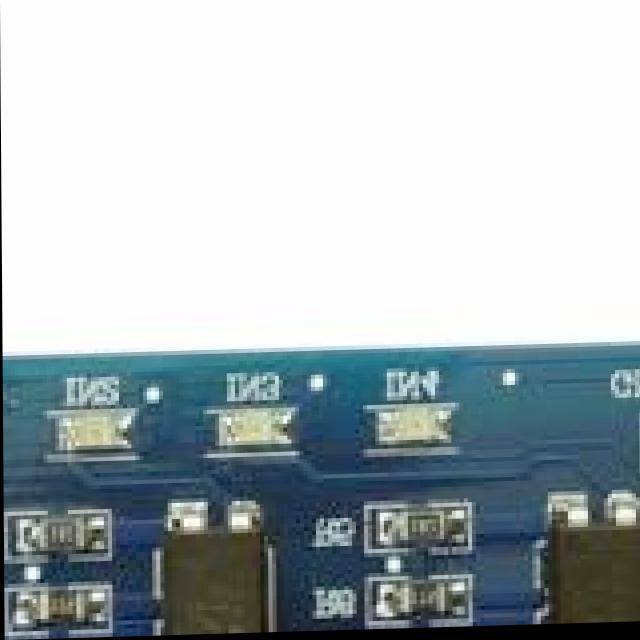IC: (163, 518, 280, 636), (539, 493, 640, 628)
LED: (206, 385, 295, 451), (366, 391, 461, 452), (54, 393, 141, 455)
connector: (634, 389, 640, 477)
resistor: (27, 505, 121, 559), (375, 571, 464, 623), (23, 584, 104, 640), (387, 503, 467, 547)
